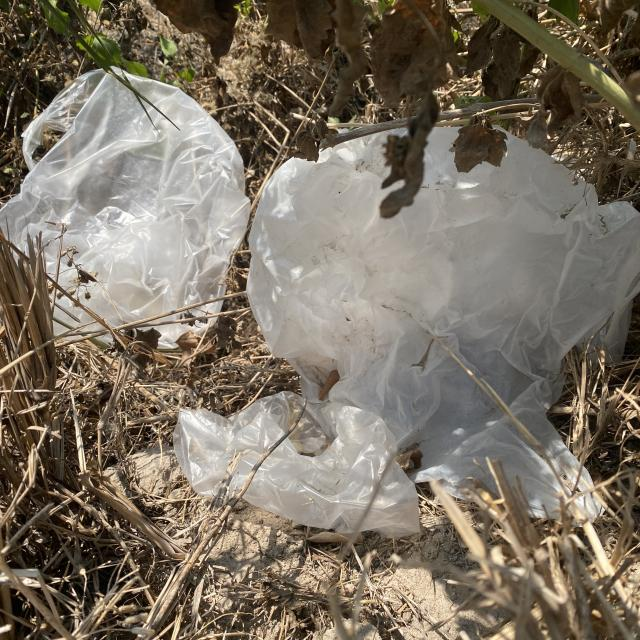Single-layer Plastic: (174, 118, 640, 553), (0, 68, 254, 351)
